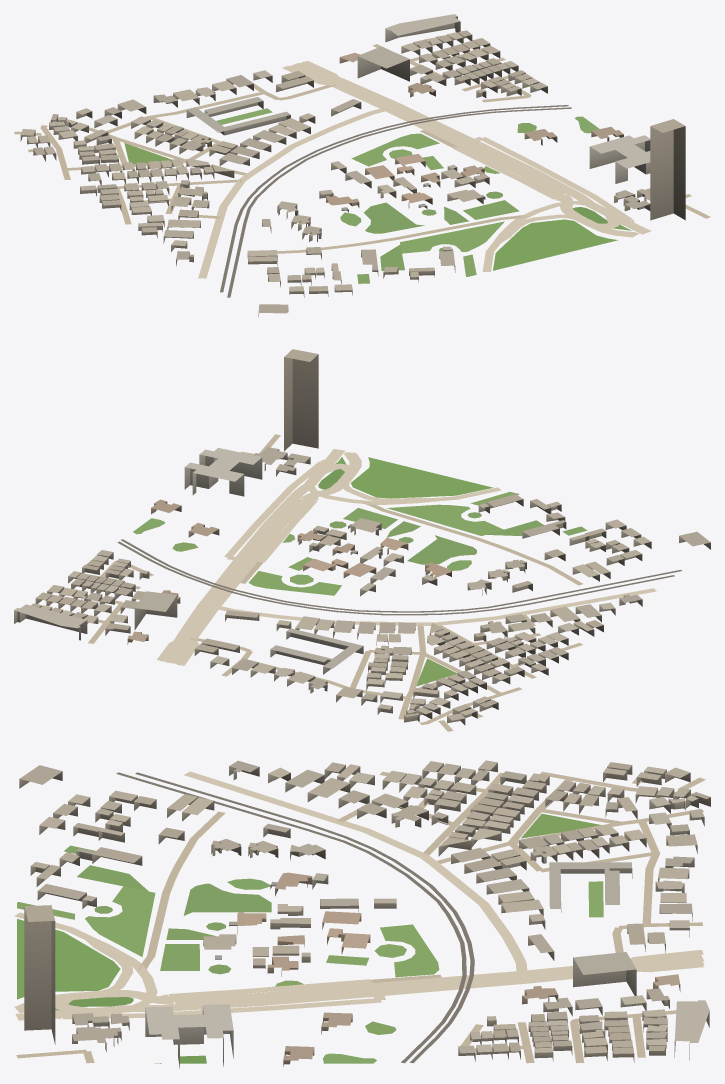
The picture shows the model from 3 angles, top to bottom: view 1: azimuth 30°, elevation 25°; view 2: azimuth 150°, elevation 25°; view 3: azimuth 270°, elevation 25°; orthographic projection. The views are drawn at different scales.
Parts seen in each view (by area): view 1: building, ground; view 2: building, ground; view 3: building, ground.
Part boxes in pixels (left/top/right/bottom): building: left=20, top=14, right=685, bottom=316; ground: left=14, top=44, right=710, bottom=297; building: left=14, top=349, right=710, bottom=725; ground: left=87, top=434, right=681, bottom=731; building: left=19, top=760, right=710, bottom=1068; ground: left=14, top=771, right=705, bottom=1063.
Size of the model in its own units: 516 by 100 by 508.
